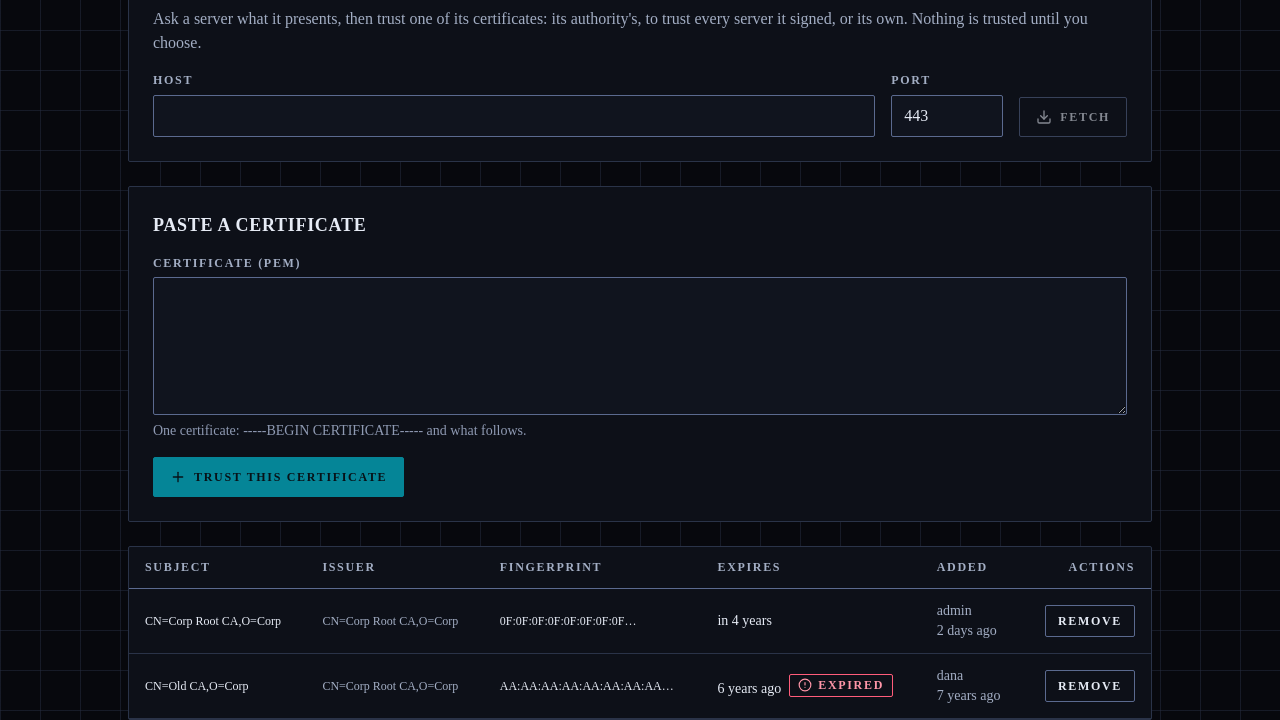
Test case: the trusted certificates (spec 6) › are removed after a question
(page scrolled)
Click the button with aria-label "Remove CN=Old CA,O=Corp" at (1090, 686), box [1045, 670, 1135, 702]
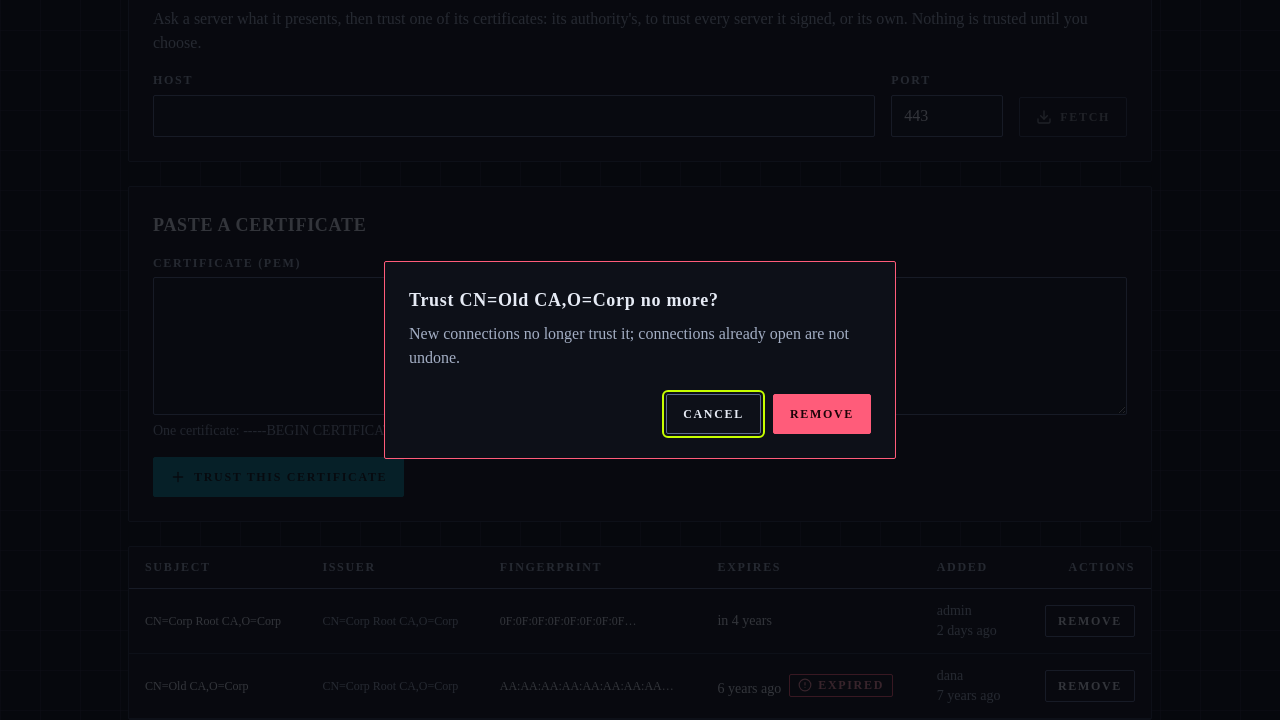
Click the button "Remove" at (822, 414), box [773, 394, 871, 434]
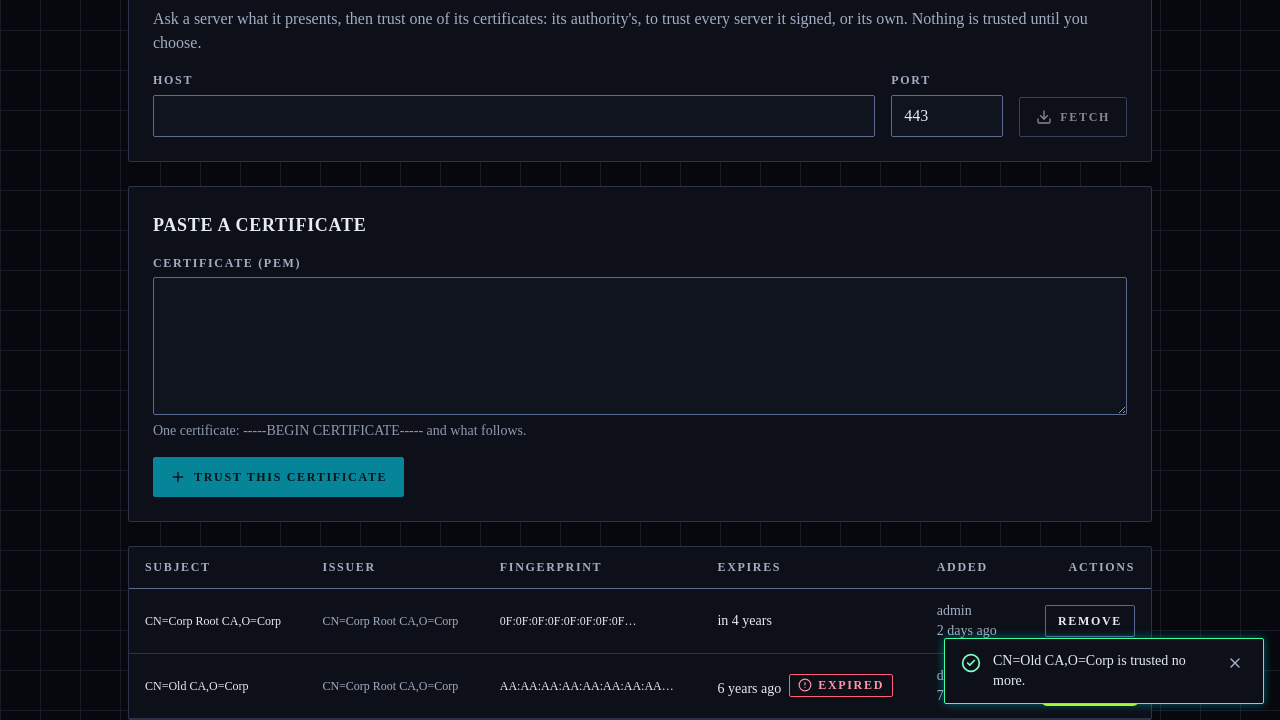
Check: the element named "Notifications" reads "CN=Old CA,O=Corp is trusted no more.", box [993, 653, 1186, 688]
